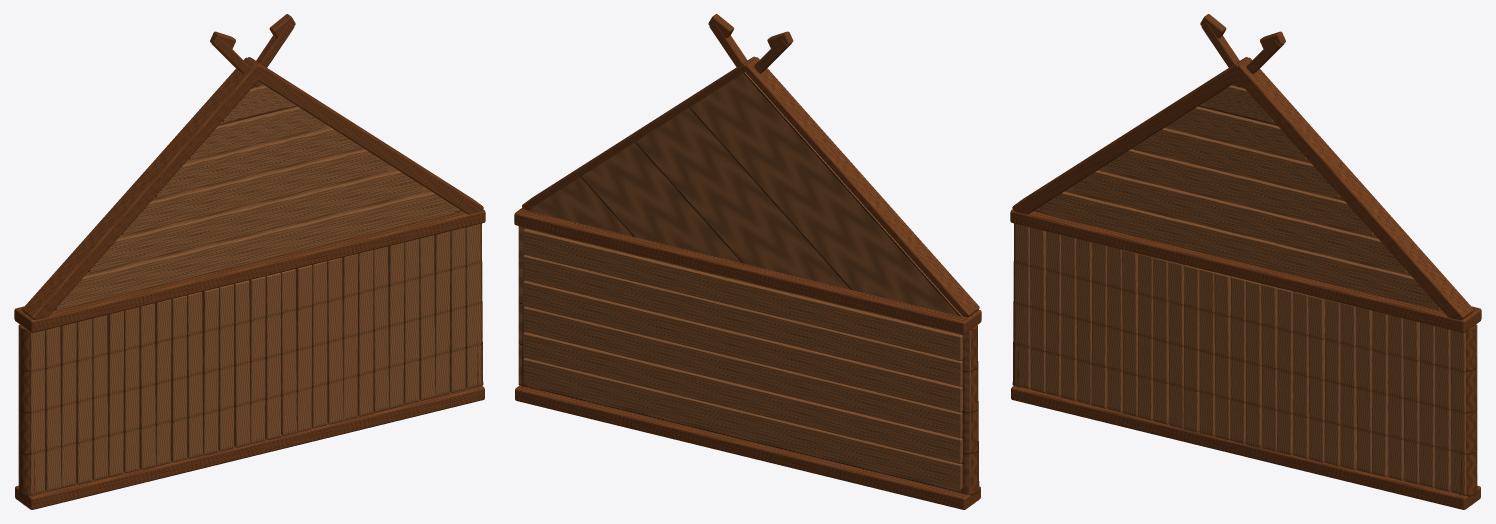
Rendered from viking-age-longhouse-and-longship-longhouse-gable-end-27117688__30167.glb.
3 views of the same model, side by side, from view 1: azimuth 30°, elevation 25°; view 2: azimuth 150°, elevation 25°; view 3: azimuth 330°, elevation 25° (orthographic).
Visible parts, largest first — view 1: longhouse-gable-end; view 2: longhouse-gable-end; view 3: longhouse-gable-end.
Part boxes in pixels (x1=…): longhouse-gable-end: x1=14, y1=14, x2=485, y2=509; longhouse-gable-end: x1=514, y1=14, x2=981, y2=509; longhouse-gable-end: x1=1010, y1=14, x2=1481, y2=509.
Bounding box in the file's own units: 5.59 × 4.94 × 0.3801.
Materials: 2 (2 with a texture image).
